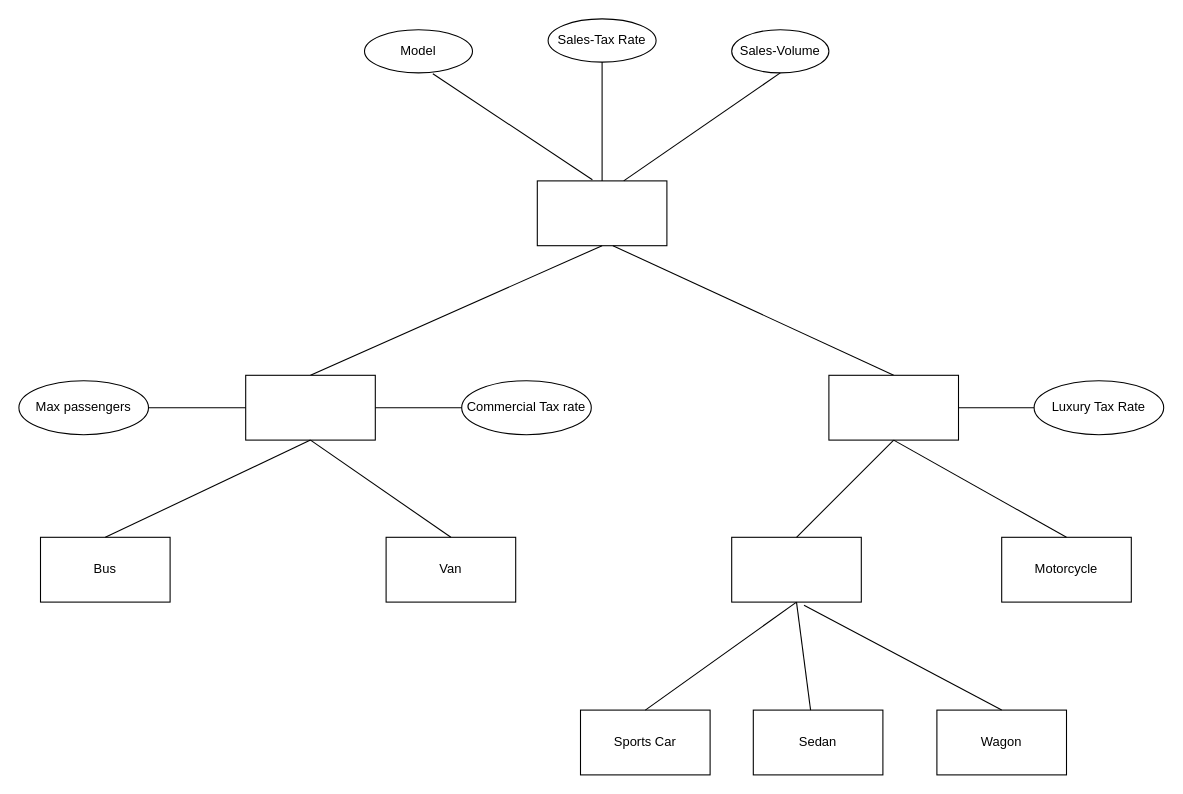
Some shapes in this 1183 by 794 pixel diagram are drawn without their labels. The centre of each missing label's shape, as x and y in pixels:
Commercial Vehicle: the point at 310,407
Non-Commercial Vehicle: the point at 893,407
Passenger Car: the point at 796,569
Vehicle: the point at 601,213
